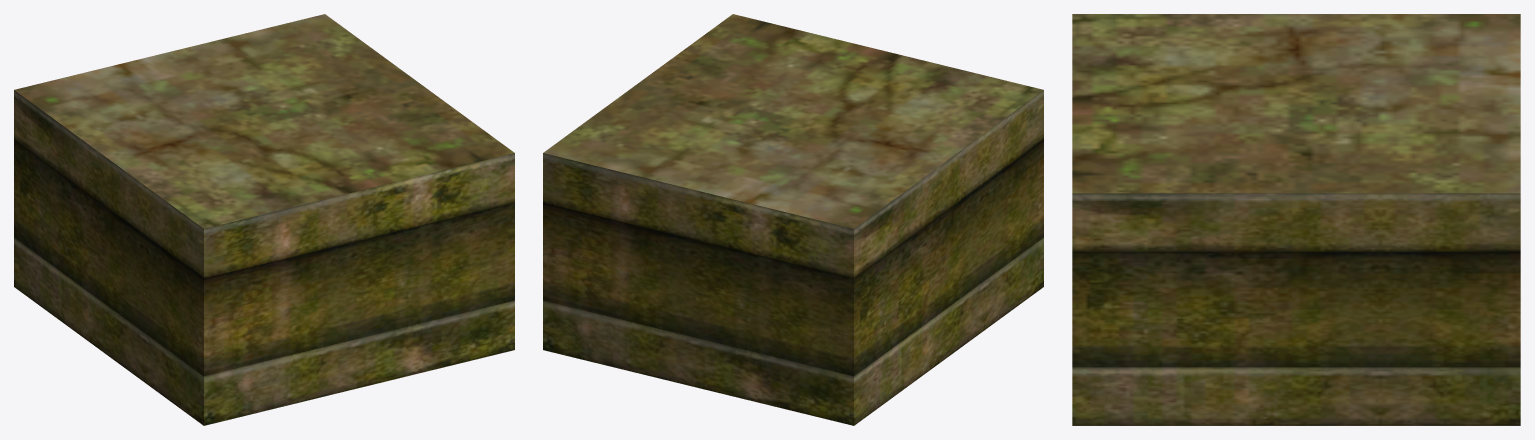
Rendered from OVERHILL_A_01_LINE418.fbx.
3 views of the same model, side by side, from view 1: azimuth 30°, elevation 25°; view 2: azimuth 150°, elevation 25°; view 3: azimuth 270°, elevation 25° (orthographic). The views are drawn at different scales.
Parts seen in each view (by area): view 1: OVERHILL_A_01_LINE418; view 2: OVERHILL_A_01_LINE418; view 3: OVERHILL_A_01_LINE418.
Boxes of the visible parts, bbox=[...] form: OVERHILL_A_01_LINE418: bbox=[14, 14, 514, 425]; OVERHILL_A_01_LINE418: bbox=[543, 14, 1043, 425]; OVERHILL_A_01_LINE418: bbox=[1072, 14, 1520, 425].
Bounding box in the file's own units: 12303 × 7450 × 13014.
2 materials, 2 textured.
